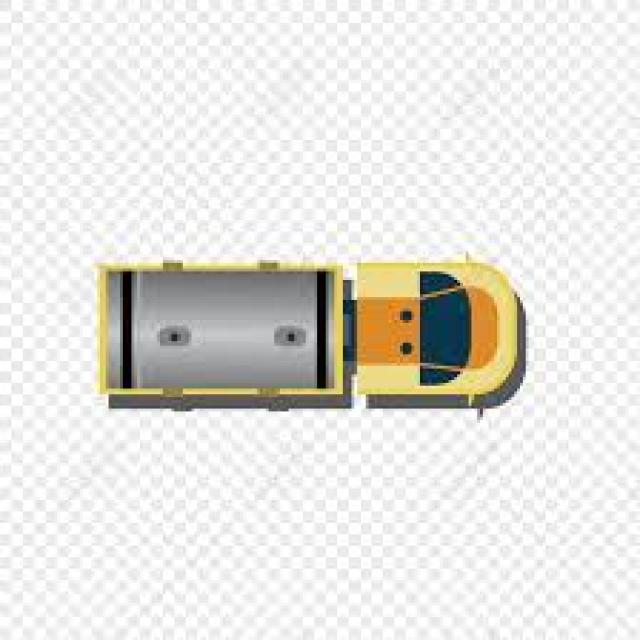truck: (94, 257, 522, 400)
